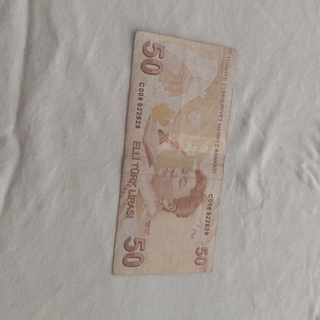50TLBack: (111, 29, 237, 275)
